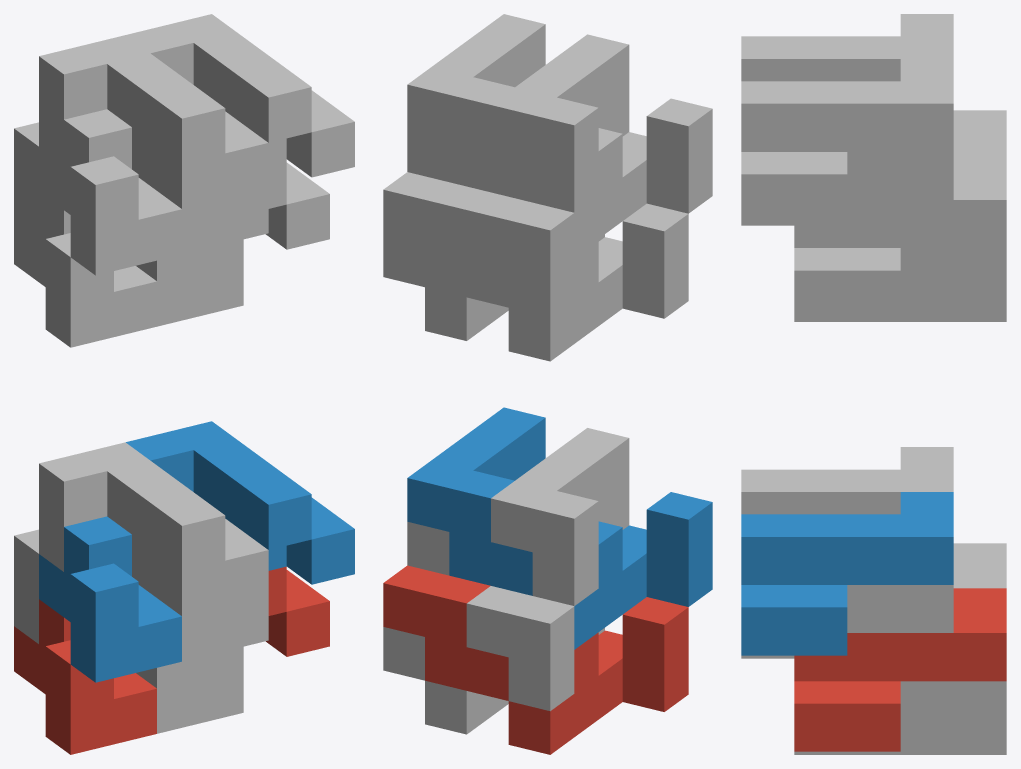
Rendered from tiling.obj.
The picture shows the model from 3 angles, left to right: view 1: azimuth 30°, elevation 25°; view 2: azimuth 150°, elevation 25°; view 3: azimuth 270°, elevation 25°; orthographic projection. The views are drawn at different scales.
Parts seen in each view (by area): view 1: copy_2_domain_2, copy_2_domain_4, copy_2_domain_6, copy_2_domain_8, copy_1_domain_4, copy_1_domain_2, copy_1_domain_1, copy_1_domain_3, copy_1_domain_6, copy_1_domain_8, copy_1_domain_5, copy_1_domain_7 (+4 smaller); view 2: copy_1_domain_1, copy_1_domain_3, copy_2_domain_4, copy_2_domain_2, copy_1_domain_4, copy_1_domain_2, copy_2_domain_6, copy_2_domain_8, copy_2_domain_1, copy_2_domain_3, copy_2_domain_7, copy_2_domain_5 (+4 smaller); view 3: copy_2_domain_6, copy_2_domain_8, copy_2_domain_5, copy_2_domain_7, copy_2_domain_2, copy_2_domain_4, copy_1_domain_5, copy_1_domain_7, copy_1_domain_8, copy_1_domain_6, copy_2_domain_1, copy_2_domain_3.
Part boxes in pixels (bbox=[...]): copy_2_domain_2: bbox=[39, 442, 268, 605]; copy_2_domain_4: bbox=[39, 35, 268, 198]; copy_2_domain_6: bbox=[126, 421, 354, 584]; copy_2_domain_8: bbox=[126, 14, 354, 177]; copy_1_domain_4: bbox=[39, 109, 181, 275]; copy_1_domain_2: bbox=[39, 516, 181, 682]; copy_1_domain_1: bbox=[14, 599, 156, 754]; copy_1_domain_3: bbox=[14, 192, 156, 347]; copy_1_domain_6: bbox=[157, 553, 268, 661]; copy_1_domain_8: bbox=[157, 146, 268, 254]; copy_1_domain_5: bbox=[136, 657, 243, 733]; copy_1_domain_7: bbox=[136, 250, 243, 326]; copy_1_domain_1: bbox=[466, 597, 688, 754]; copy_1_domain_3: bbox=[466, 203, 688, 361]; copy_2_domain_4: bbox=[491, 34, 629, 212]; copy_2_domain_2: bbox=[491, 428, 629, 605]; copy_1_domain_4: bbox=[491, 98, 712, 256]; copy_1_domain_2: bbox=[491, 492, 712, 649]; copy_2_domain_6: bbox=[407, 407, 545, 585]; copy_2_domain_8: bbox=[407, 14, 545, 192]; copy_2_domain_1: bbox=[466, 586, 574, 711]; copy_2_domain_3: bbox=[466, 192, 574, 317]; copy_2_domain_7: bbox=[383, 172, 490, 297]; copy_2_domain_5: bbox=[383, 565, 490, 690]; copy_2_domain_6: bbox=[741, 492, 953, 655]; copy_2_domain_8: bbox=[741, 59, 953, 222]; copy_2_domain_5: bbox=[794, 588, 1006, 751]; copy_2_domain_7: bbox=[794, 155, 1006, 318]; copy_2_domain_2: bbox=[741, 447, 953, 514]; copy_2_domain_4: bbox=[741, 14, 953, 81]; copy_1_domain_5: bbox=[794, 681, 1006, 754]; copy_1_domain_7: bbox=[794, 248, 1006, 321]; copy_1_domain_8: bbox=[741, 152, 953, 225]; copy_1_domain_6: bbox=[741, 585, 953, 658]; copy_2_domain_1: bbox=[953, 543, 1006, 588]; copy_2_domain_3: bbox=[953, 110, 1006, 154].
Size of the model in its own units: 6 by 14 by 5.
